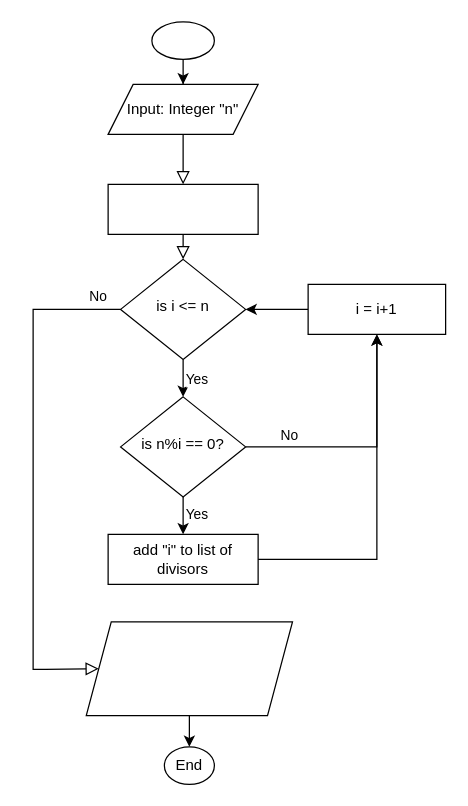
Image size: 468x806. Some labels were removed from this diagram. The shapes that lost their labels are listed below. From the top down, each one's box as (x1, y1, x2, y2) in pixels, then its label:
(151, 21, 214, 59): Start
(107, 183, 258, 234): i = 1
(85, 621, 292, 716): Output: Print the list of divisors and the integer "n" itself.
